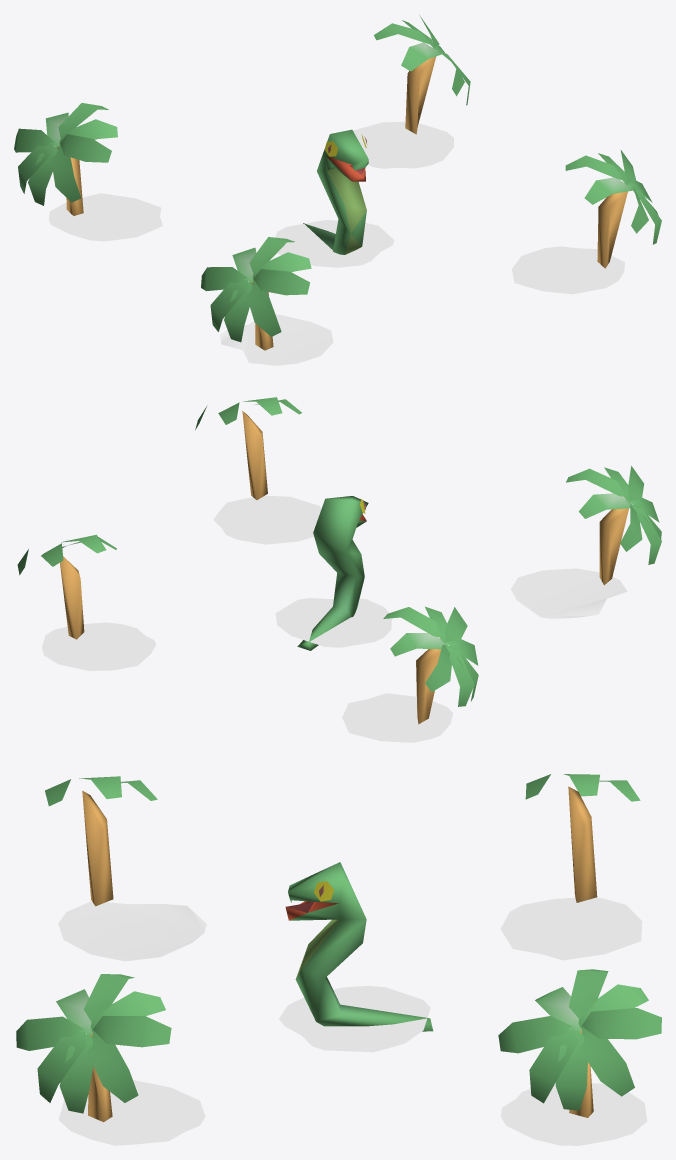
File: map2.glb
3 renders of one model, top to bottom at view 1: azimuth 30°, elevation 25°; view 2: azimuth 150°, elevation 25°; view 3: azimuth 270°, elevation 25°, orthographic. The views are drawn at different scales.
Visible parts, largest first — view 1: Palm_Tree.001, Palm_Tree.002, Snake, Cylinder.006, Palm_Tree, Cylinder.008, Cylinder.007, Cylinder.005, Palm_Tree.003, Cylinder.009; view 2: Palm_Tree.002, Palm_Tree.001, Snake, Cylinder.005, Cylinder.007, Cylinder.006, Cylinder.008, Cylinder.009, Palm_Tree, Palm_Tree.003; view 3: Palm_Tree.003, Palm_Tree, Snake, Cylinder.008, Cylinder.005, Cylinder.007, Cylinder.006, Cylinder.009, Palm_Tree.001, Palm_Tree.002.
Part boxes in pixels (bbox=[...]): Palm_Tree.001: bbox=[201, 237, 311, 350]; Palm_Tree.002: bbox=[14, 103, 117, 215]; Snake: bbox=[303, 129, 368, 254]; Cylinder.006: bbox=[512, 246, 624, 294]; Palm_Tree: bbox=[565, 150, 661, 268]; Cylinder.008: bbox=[49, 193, 162, 241]; Cylinder.007: bbox=[353, 121, 453, 168]; Cylinder.005: bbox=[220, 314, 333, 365]; Palm_Tree.003: bbox=[374, 15, 470, 134]; Cylinder.009: bbox=[275, 220, 394, 267]; Palm_Tree.002: bbox=[383, 606, 478, 724]; Palm_Tree.001: bbox=[566, 466, 661, 585]; Snake: bbox=[297, 496, 368, 650]; Cylinder.005: bbox=[511, 568, 627, 619]; Cylinder.007: bbox=[42, 622, 155, 670]; Cylinder.006: bbox=[213, 495, 321, 544]; Cylinder.008: bbox=[342, 693, 453, 742]; Cylinder.009: bbox=[275, 598, 391, 647]; Palm_Tree: bbox=[195, 397, 301, 499]; Palm_Tree.003: bbox=[17, 534, 116, 639]; Palm_Tree.003: bbox=[498, 969, 661, 1117]; Palm_Tree: bbox=[16, 974, 171, 1122]; Snake: bbox=[285, 862, 433, 1031]; Cylinder.008: bbox=[500, 897, 642, 960]; Cylinder.005: bbox=[58, 901, 206, 961]; Cylinder.007: bbox=[500, 1083, 647, 1145]; Cylinder.006: bbox=[58, 1080, 205, 1145]; Cylinder.009: bbox=[279, 986, 430, 1052]; Palm_Tree.001: bbox=[45, 776, 157, 906]; Palm_Tree.002: bbox=[525, 774, 640, 902].
Bounding box in the file's own units: 2.26 × 0.6073 × 2.2.
